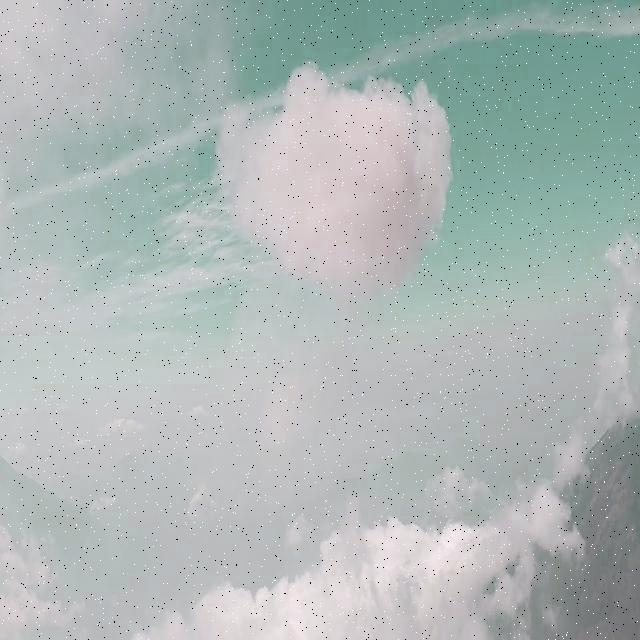Plume: (211, 63, 455, 323)
